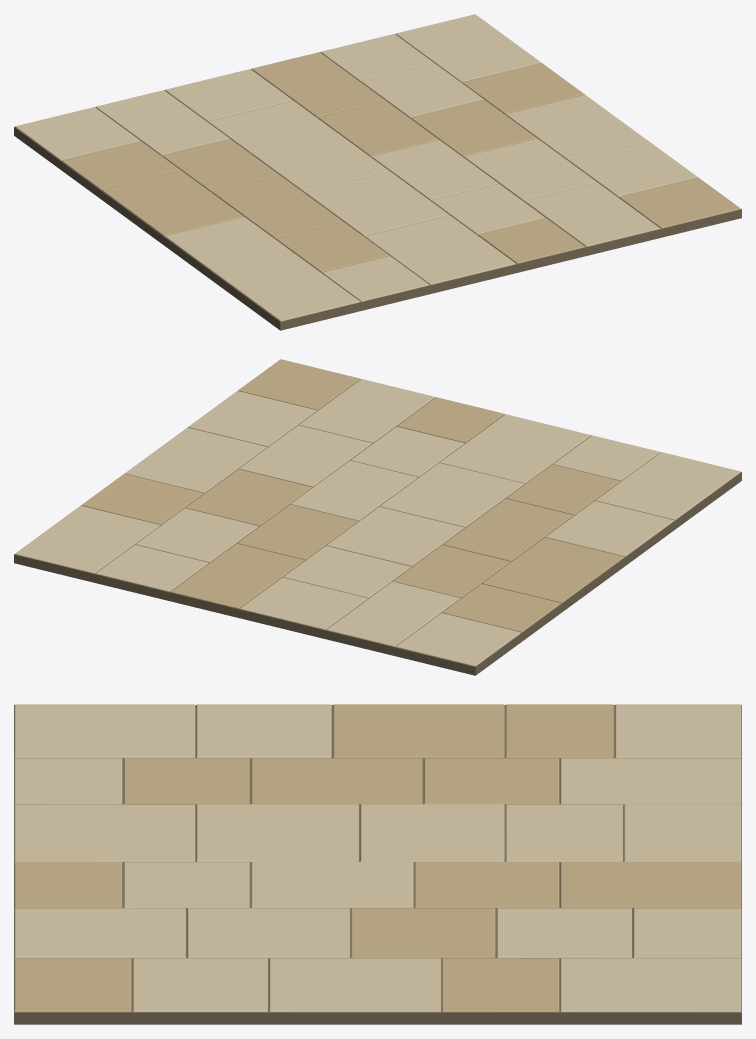
3 views of the same model, one above another, from view 1: azimuth 30°, elevation 25°; view 2: azimuth 150°, elevation 25°; view 3: azimuth 270°, elevation 25° (orthographic). The views are drawn at different scales.
Visible parts, largest first — view 1: Mesh_Slabs_Limestone, Mesh_Slabs_Travertine, Mesh_JointBed; view 2: Mesh_Slabs_Limestone, Mesh_Slabs_Travertine, Mesh_JointBed; view 3: Mesh_Slabs_Limestone, Mesh_Slabs_Travertine, Mesh_JointBed.
Boxes of the visible parts, x1,y1,x2,y2 form: Mesh_Slabs_Limestone: (15, 14, 697, 321); Mesh_Slabs_Travertine: (61, 52, 740, 272); Mesh_JointBed: (14, 34, 741, 330); Mesh_Slabs_Limestone: (15, 379, 740, 666); Mesh_Slabs_Travertine: (81, 359, 624, 632); Mesh_JointBed: (14, 379, 741, 675); Mesh_Slabs_Limestone: (14, 704, 741, 1012); Mesh_Slabs_Travertine: (14, 704, 741, 1012); Mesh_JointBed: (14, 705, 741, 1024).
Size of the model in its own units: 4 by 0.08 by 4.
